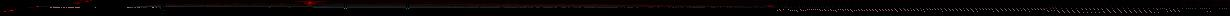Blue cone: (73, 2, 81, 4), (28, 7, 34, 8)
Yellow cone: (301, 1, 319, 6), (766, 5, 775, 7)
